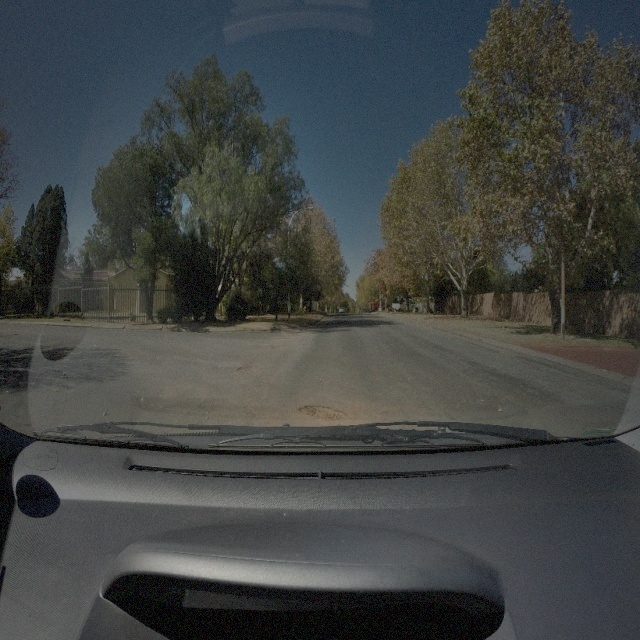pothole: (296, 399, 346, 423), (233, 363, 260, 373)
